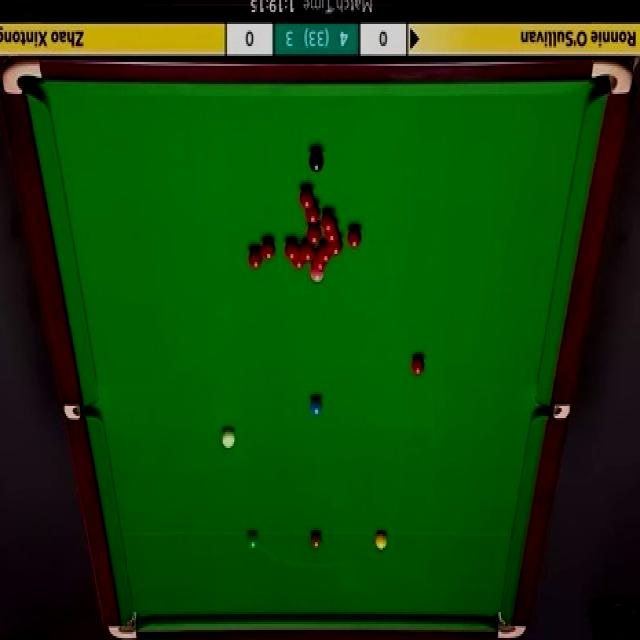pocket: (591, 55, 634, 97), (4, 58, 44, 97), (110, 608, 139, 640), (497, 612, 527, 640), (538, 402, 572, 422), (66, 405, 100, 420)
